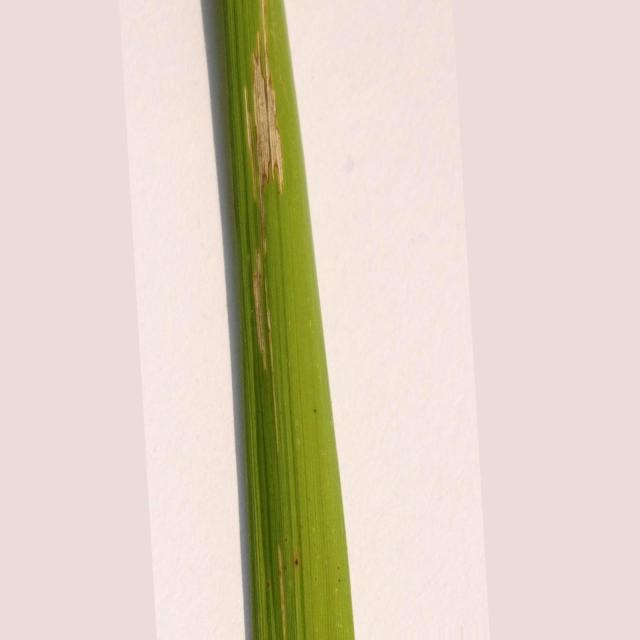Bacterial_Leaf_Blight: (249, 50, 284, 192), (251, 250, 269, 371)
